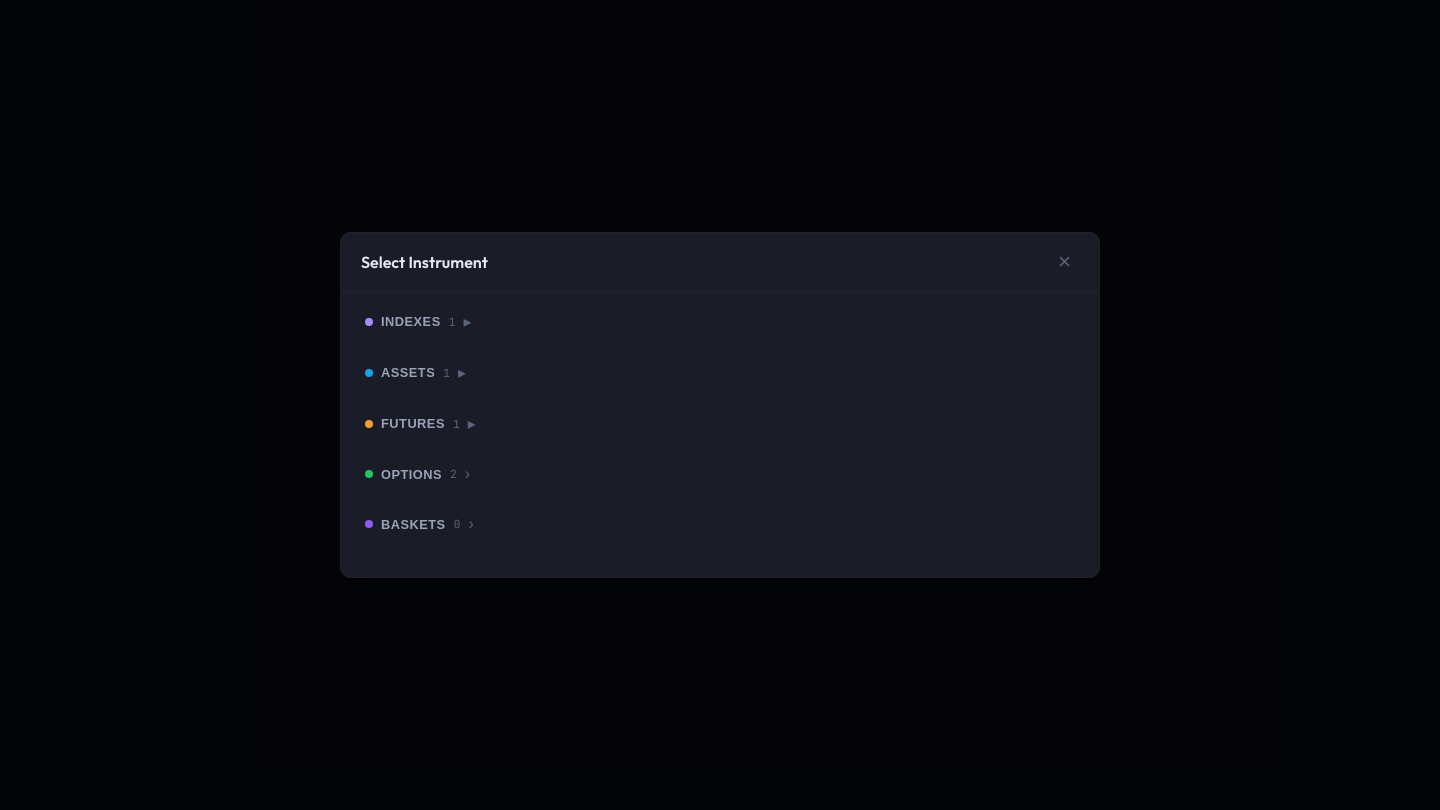
Test: <InstrumentPickerModal> › opens the inline composer when the Baskets tile is clicked
expect the text "Indexes" is shown: met, box [381,314,441,329]
Click the button with test id "picker-baskets-toggle" at [413, 524], box [361,507,1079,541]
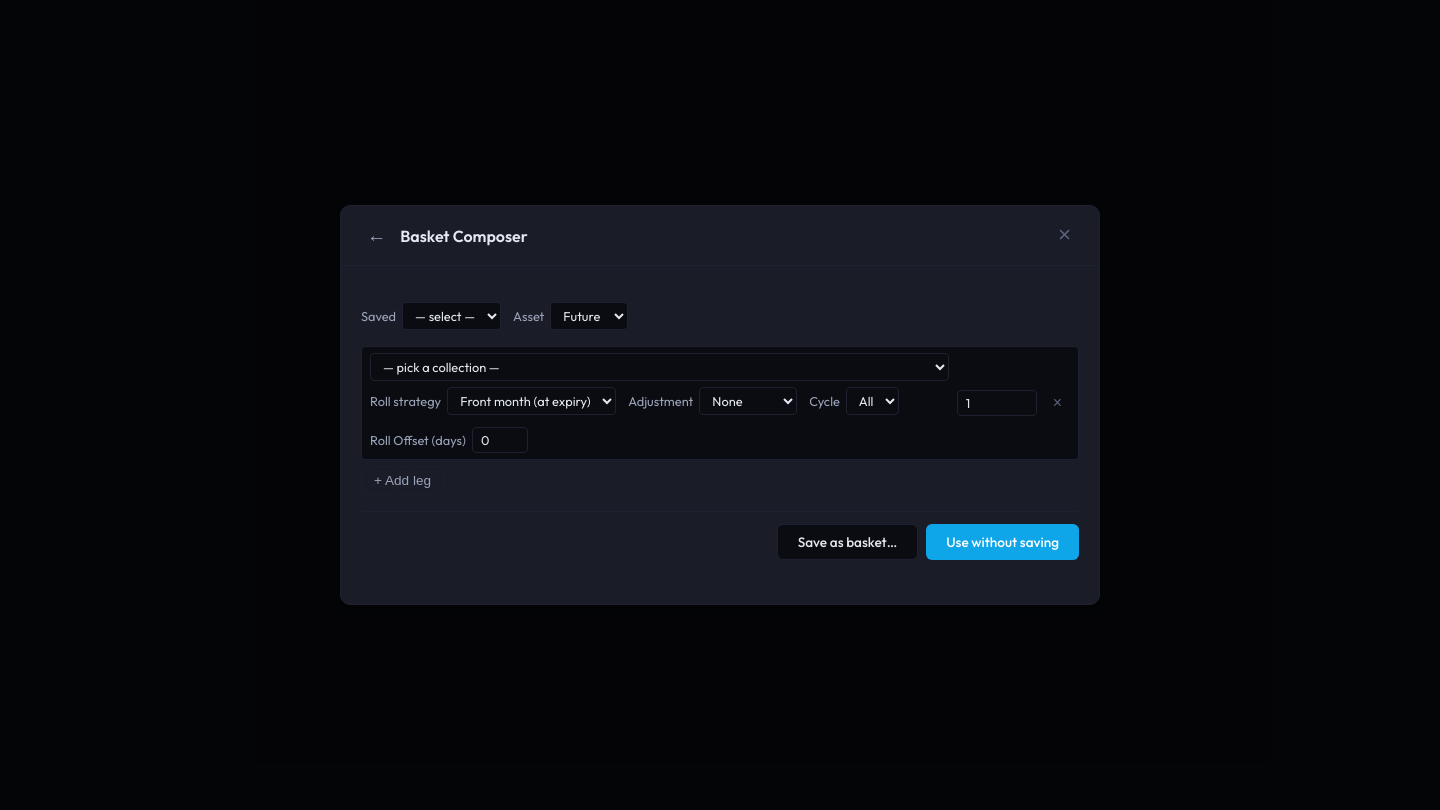
expect the element with test id "basket-composer" is shown: met, box [361,278,1079,584]
expect the heading "Basket Composer" is shown: met, box [400,226,528,246]
expect the element with test id "basket-leg-0" is shown: met, box [361,346,1079,460]
